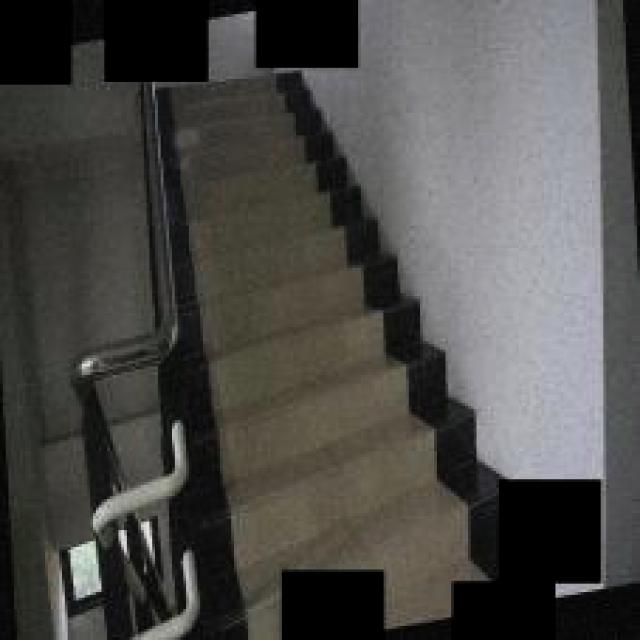upstair: (165, 125, 399, 500)
